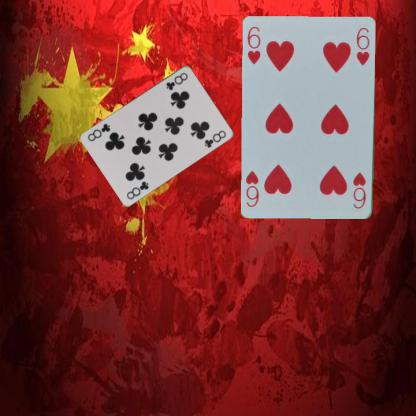6h: (350, 170, 368, 210), (245, 24, 262, 66)
8c: (124, 178, 150, 200), (163, 70, 189, 91)
